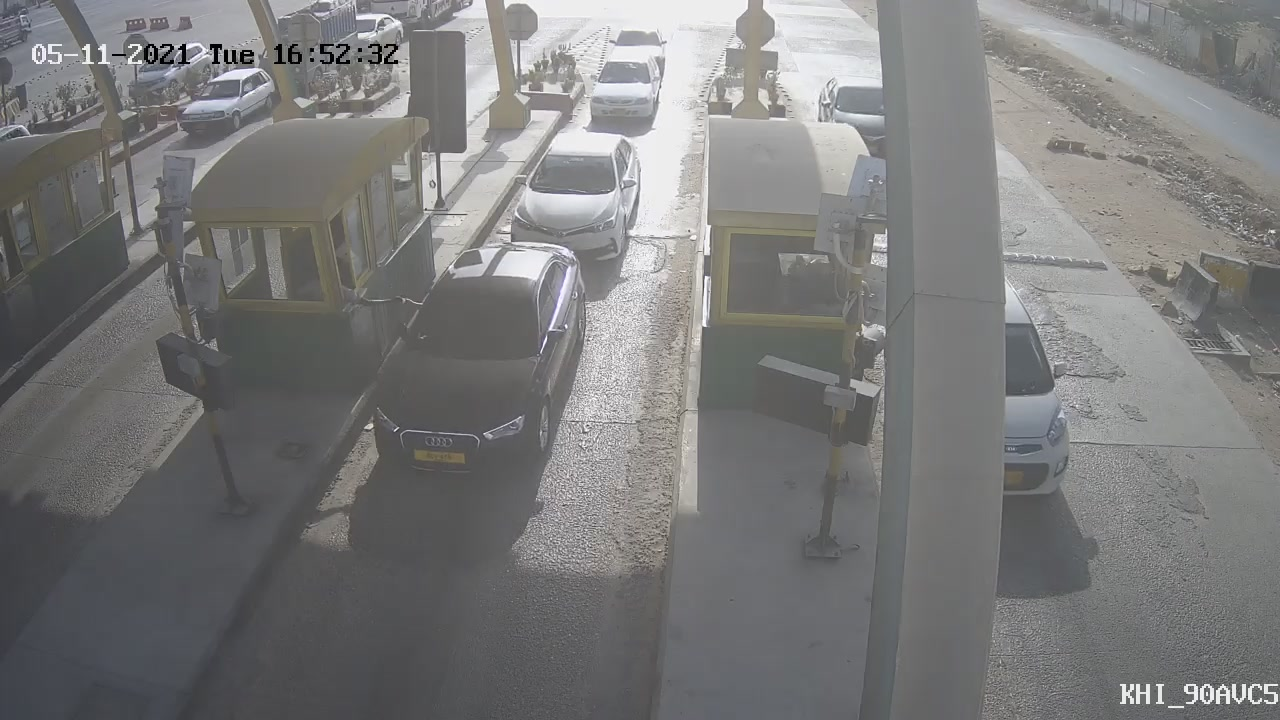F1: (335, 221, 617, 507), (492, 109, 656, 286), (568, 40, 679, 126)
